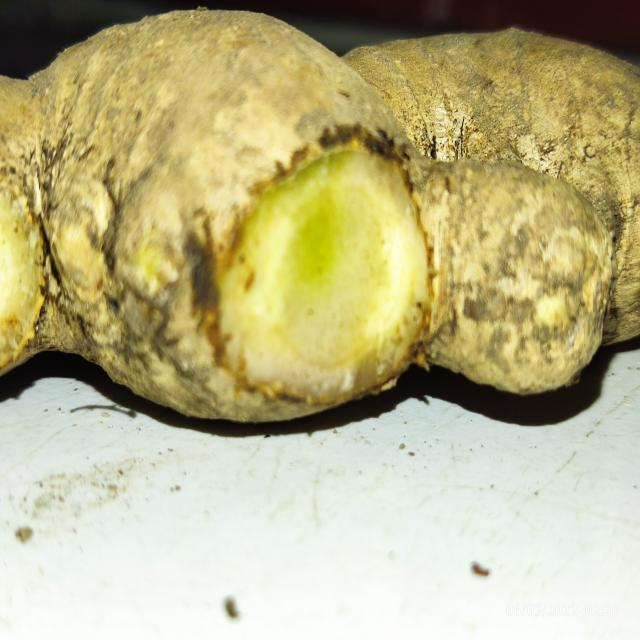ginger: (5, 10, 640, 405)
